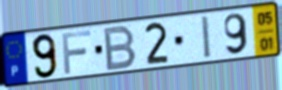2: (143, 21, 170, 66)
9: (30, 32, 60, 80), (223, 12, 249, 57)
B: (103, 23, 139, 73)
F: (60, 28, 93, 76)
I: (200, 14, 213, 61)
